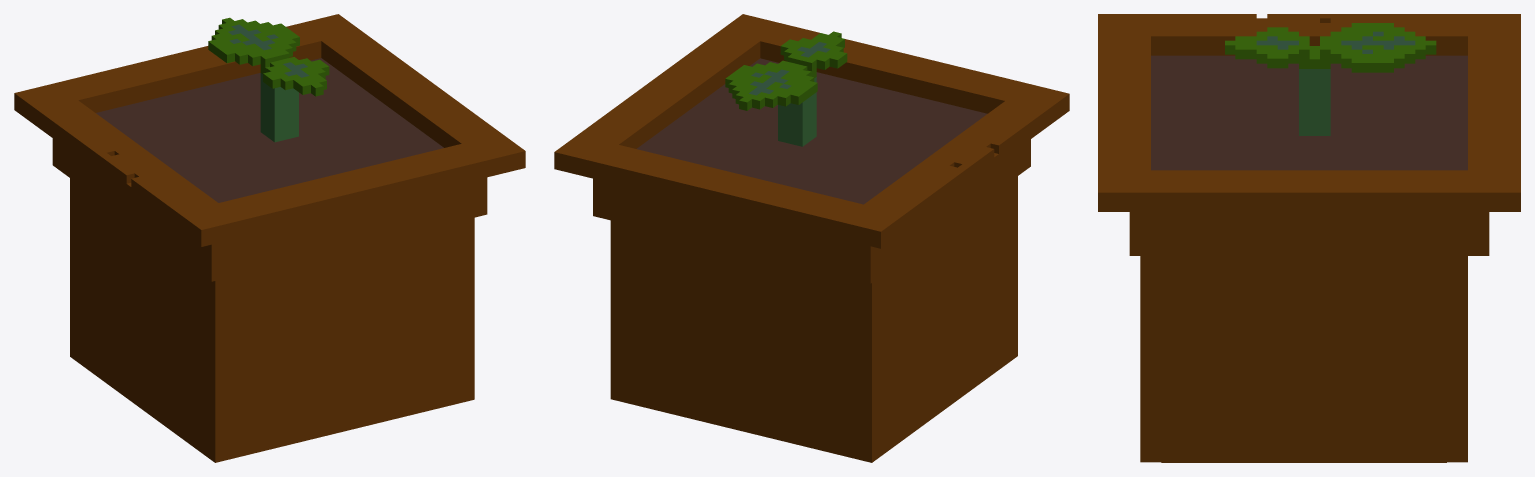
File: uekibachi.obj
The picture shows the model from 3 angles, left to right: view 1: azimuth 30°, elevation 25°; view 2: azimuth 150°, elevation 25°; view 3: azimuth 270°, elevation 25°; orthographic projection. The views are drawn at different scales.
Bounding box in the file's own units: 4 × 3.8 × 4.
1 material, 1 textured.
